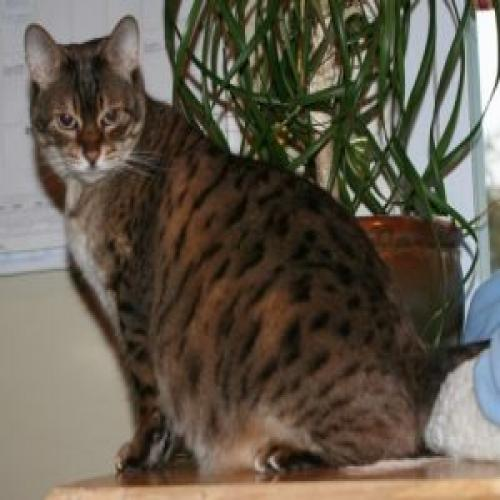bengal: (16, 12, 162, 196)
